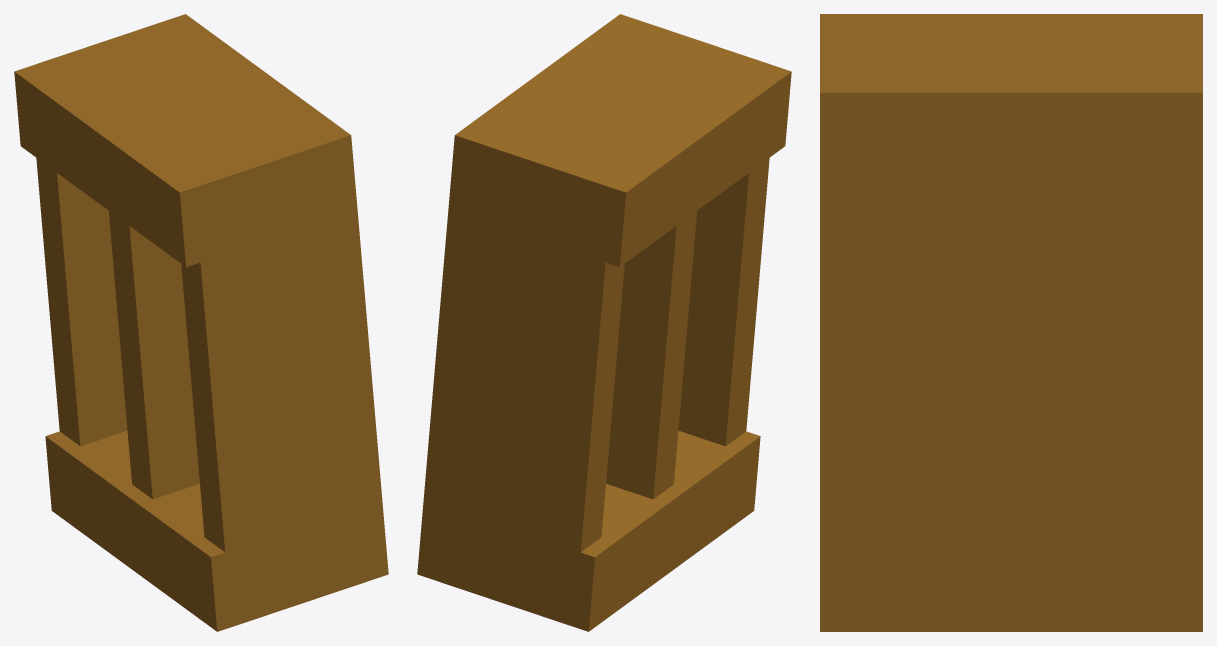
Rendered from house_10.FBX.
The picture shows the model from 3 angles, left to right: view 1: azimuth 30°, elevation 25°; view 2: azimuth 150°, elevation 25°; view 3: azimuth 270°, elevation 25°; orthographic projection. The views are drawn at different scales.
Parts seen in each view (by area): view 1: Box042; view 2: Box042; view 3: Box042.
Part boxes in pixels (box(x1,y1,x2,y2)): Box042: box(14, 14, 388, 631); Box042: box(417, 14, 791, 631); Box042: box(820, 14, 1202, 631).
Bounding box in the file's own units: 15.31 × 32.51 × 21.02.
1 material, 1 textured.
